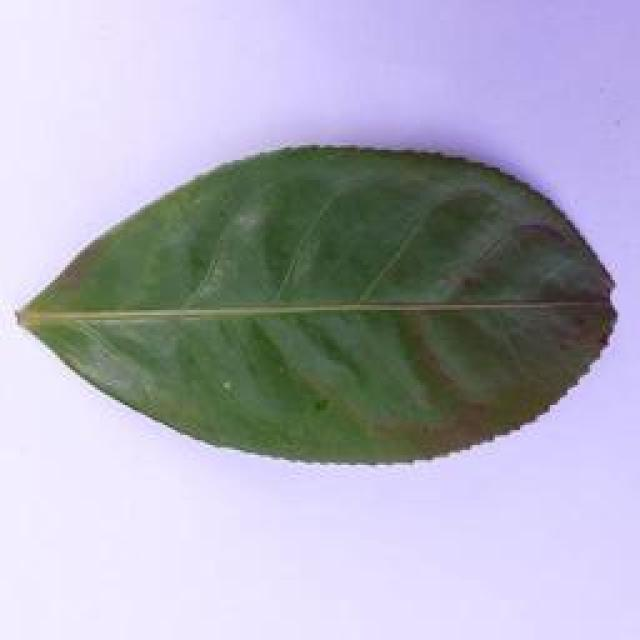Red Leaf Spot: (6, 136, 640, 466)
